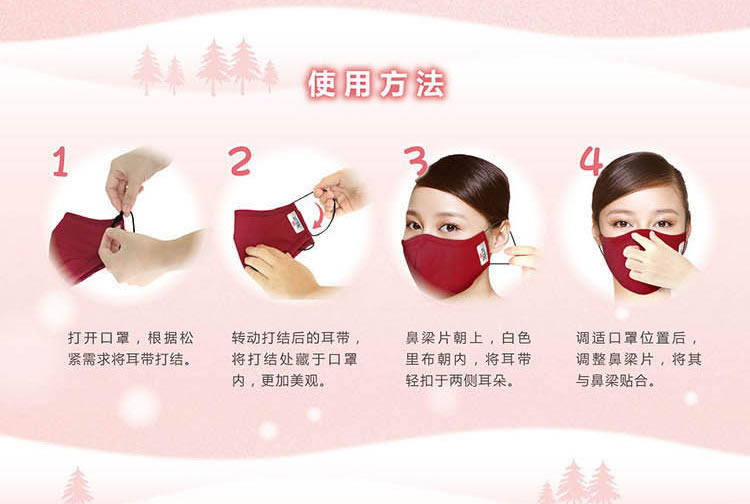face_mask: (598, 189, 685, 295), (401, 190, 486, 298)
